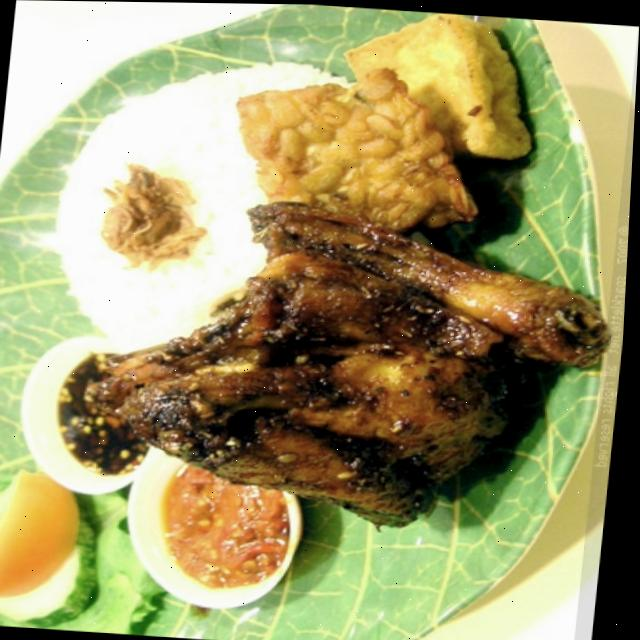鸡肉料理 含炸鸡: (0, 1, 630, 626)
